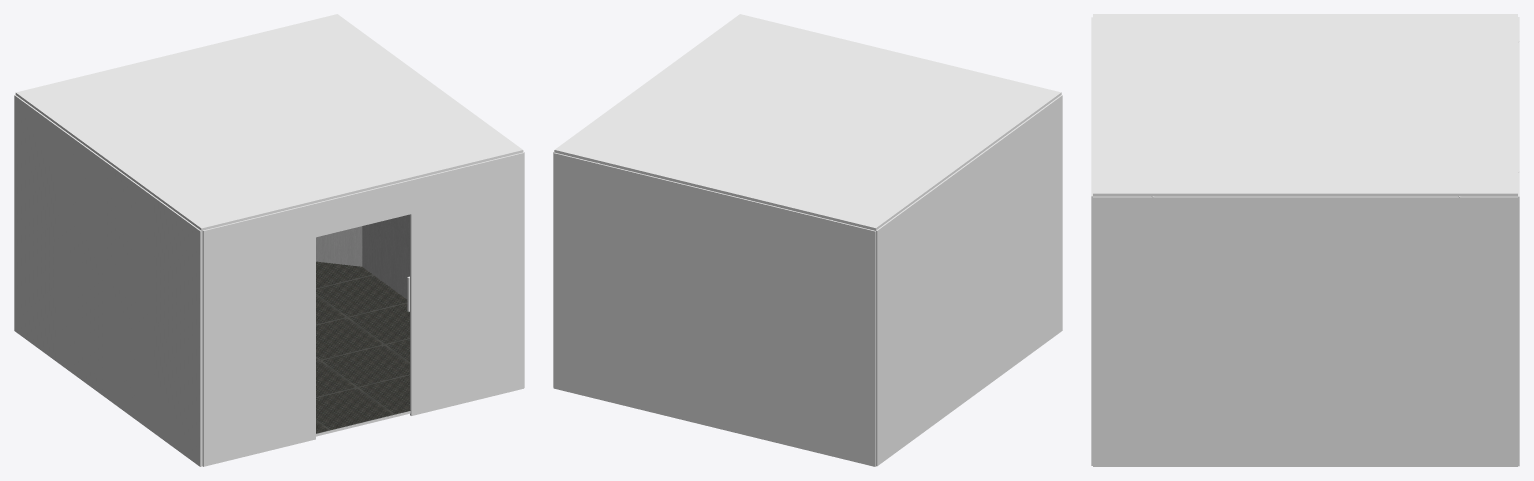
File: HyperionLift.fbx
3 views of the same model, side by side, from view 1: azimuth 30°, elevation 25°; view 2: azimuth 150°, elevation 25°; view 3: azimuth 270°, elevation 25° (orthographic). The views are drawn at different scales.
Parts seen in each view (by area): view 1: node_id53, node_id59, node_id47, node_id50, node_id65, node_id44, node_id56, node_id32; view 2: node_id62, node_id53, node_id59; view 3: node_id56, node_id53, node_id62, node_id50.
Part boxes in pixels (x1,y1,x2,y2): node_id53: (15, 14, 523, 230); node_id59: (14, 95, 202, 466); node_id47: (202, 203, 315, 466); node_id50: (410, 152, 523, 415); node_id65: (316, 261, 410, 433); node_id44: (314, 180, 411, 237); node_id56: (362, 214, 409, 299); node_id32: (316, 226, 362, 266); node_id62: (553, 152, 875, 466); node_id53: (554, 14, 1061, 230); node_id59: (876, 95, 1062, 466); node_id56: (1093, 196, 1517, 466); node_id53: (1093, 14, 1517, 196); node_id62: (1518, 17, 1519, 466); node_id50: (1091, 133, 1094, 465).
Bounding box in the file's own units: 0.512 × 0.3596 × 0.512.
Materials: 45 (23 with a texture image).
